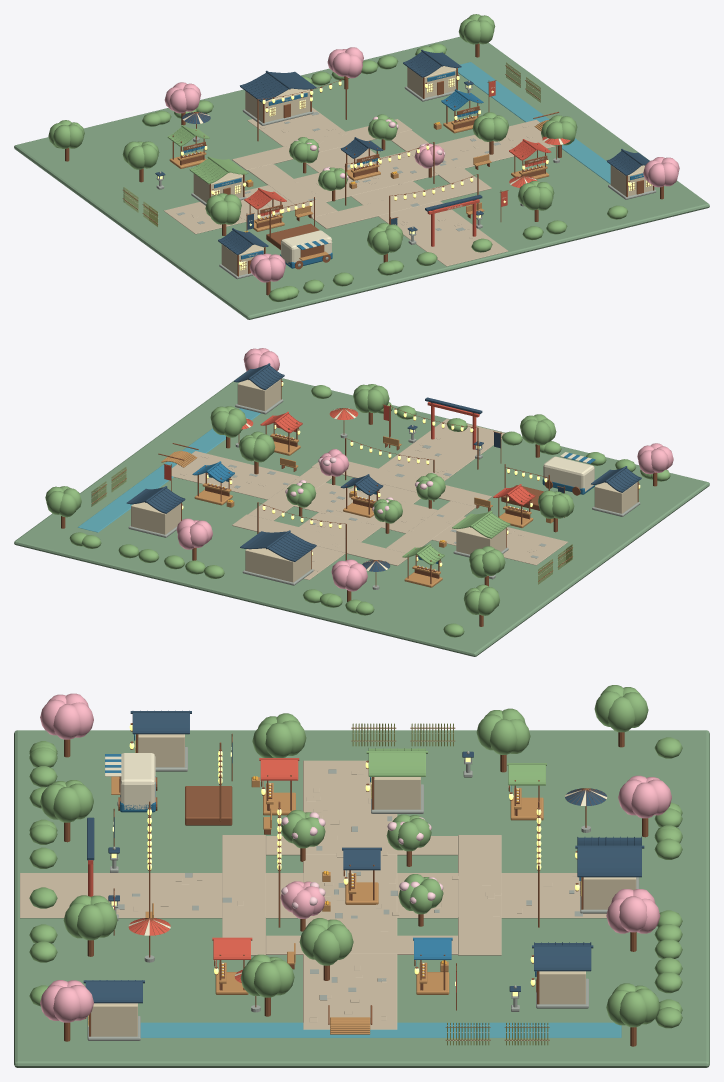
The model's file is yatai-village.glb.
The picture shows the model from 3 angles, top to bottom: view 1: azimuth 30°, elevation 25°; view 2: azimuth 150°, elevation 25°; view 3: azimuth 270°, elevation 25°; orthographic projection. The views are drawn at different scales.
Visible parts, largest first — view 1: Village_Moss meadow, Village_Sandstone, Village_Leaf canopy, Village_Cedar, Village_Blue slate, Village_Plaster, Village_Cherry blossom, Village_Stream, Village_Honey timber, Village_Vermilion, Village_Foundation, Village_Indigo canvas (+3 smaller); view 2: Village_Moss meadow, Village_Sandstone, Village_Leaf canopy, Village_Plaster, Village_Blue slate, Village_Cedar, Village_Cherry blossom, Village_Honey timber, Village_Stream, Village_Vermilion, Village_Cream linen, Village_Foundation (+3 smaller); view 3: Village_Moss meadow, Village_Sandstone, Village_Leaf canopy, Village_Blue slate, Village_Cherry blossom, Village_Cedar, Village_Plaster, Village_Stream, Village_Honey timber, Village_Foundation, Village_Cream linen, Village_Vermilion (+4 smaller).
Boxes of the visible parts, bbox=[...] form: Village_Moss meadow: bbox=[14, 36, 709, 319]; Village_Sandstone: bbox=[164, 107, 557, 266]; Village_Leaf canopy: bbox=[48, 14, 627, 301]; Village_Cedar: bbox=[65, 43, 663, 295]; Village_Blue slate: bbox=[155, 49, 649, 254]; Village_Plaster: bbox=[193, 66, 652, 275]; Village_Cherry blossom: bbox=[164, 47, 679, 282]; Village_Stream: bbox=[455, 62, 610, 184]; Village_Honey timber: bbox=[169, 115, 549, 260]; Village_Vermilion: bbox=[244, 81, 570, 246]; Village_Foundation: bbox=[156, 80, 656, 279]; Village_Indigo canvas: bbox=[183, 71, 643, 268]; Village_Moss meadow: bbox=[14, 372, 709, 656]; Village_Sandstone: bbox=[171, 419, 567, 579]; Village_Leaf canopy: bbox=[45, 384, 670, 637]; Village_Plaster: bbox=[131, 379, 637, 582]; Village_Blue slate: bbox=[126, 363, 641, 571]; Village_Cedar: bbox=[61, 378, 657, 626]; Village_Cherry blossom: bbox=[176, 348, 673, 591]; Village_Honey timber: bbox=[161, 433, 553, 587]; Village_Stream: bbox=[78, 408, 260, 532]; Village_Vermilion: bbox=[164, 402, 535, 505]; Village_Cream linen: bbox=[93, 408, 594, 575]; Village_Foundation: bbox=[128, 399, 640, 589]; Village_Moss meadow: bbox=[14, 730, 709, 1067]; Village_Sandstone: bbox=[20, 760, 606, 1029]; Village_Leaf canopy: bbox=[29, 685, 682, 1028]; Village_Blue slate: bbox=[83, 710, 644, 1003]; Village_Cherry blossom: bbox=[40, 693, 671, 1022]; Village_Cedar: bbox=[64, 723, 648, 1046]; Village_Plaster: bbox=[91, 734, 636, 1036]; Village_Stream: bbox=[140, 1022, 621, 1037]; Village_Honey timber: bbox=[111, 776, 543, 1034]; Village_Foundation: bbox=[87, 746, 639, 1040]; Village_Cream linen: bbox=[105, 726, 607, 1040]; Village_Vermilion: bbox=[88, 758, 456, 992].
Bounding box in the file's own units: 67 × 6.44 × 59.
